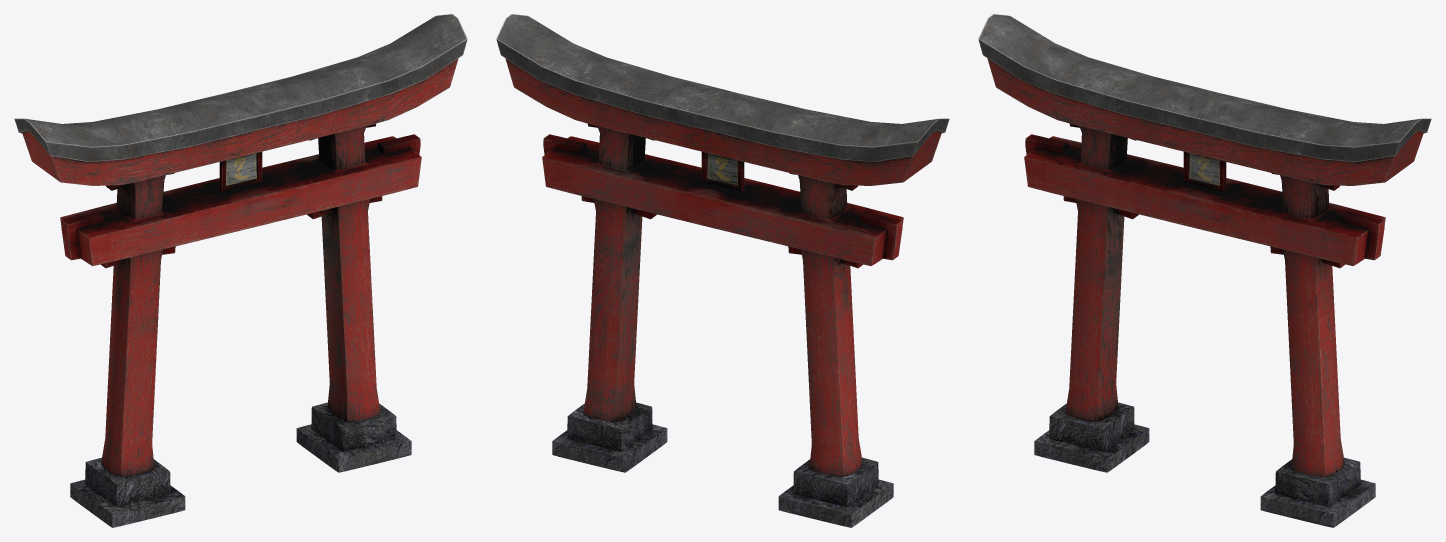
3 renders of one model, left to right at view 1: azimuth 30°, elevation 25°; view 2: azimuth 150°, elevation 25°; view 3: azimuth 330°, elevation 25°, orthographic.
Parts seen in each view (by area): view 1: tate1; view 2: tate1; view 3: tate1.
Boxes of the visible parts, x1,y1,x2,y2 form: tate1: (14,14,467,527); tate1: (496,14,949,527); tate1: (978,14,1431,527).
Bounding box in the file's own units: 142 × 129 × 24.31.
Materials: 1 (1 with a texture image).
